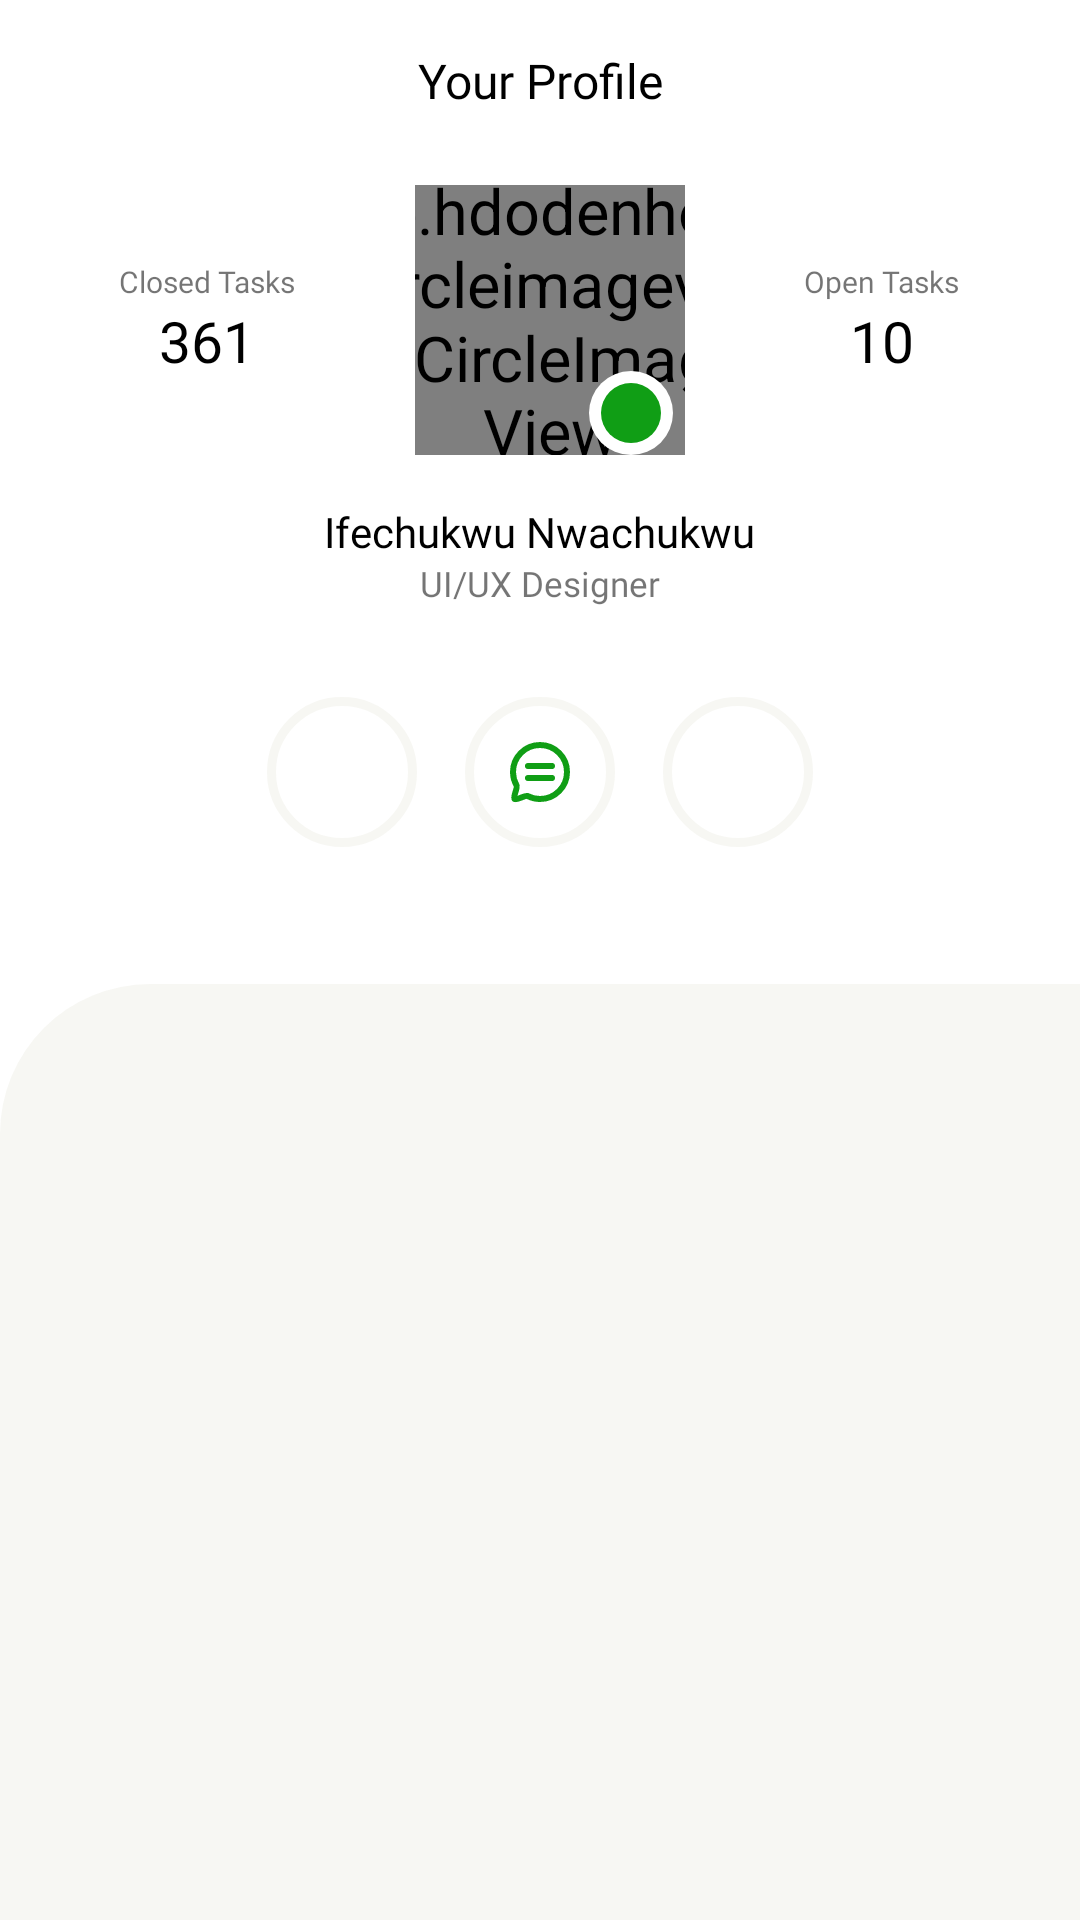

Point at icon controls on the screen. Image size 1080px x 1920px, points as (x=x, y=y).
message bubble: (x=540, y=772)
